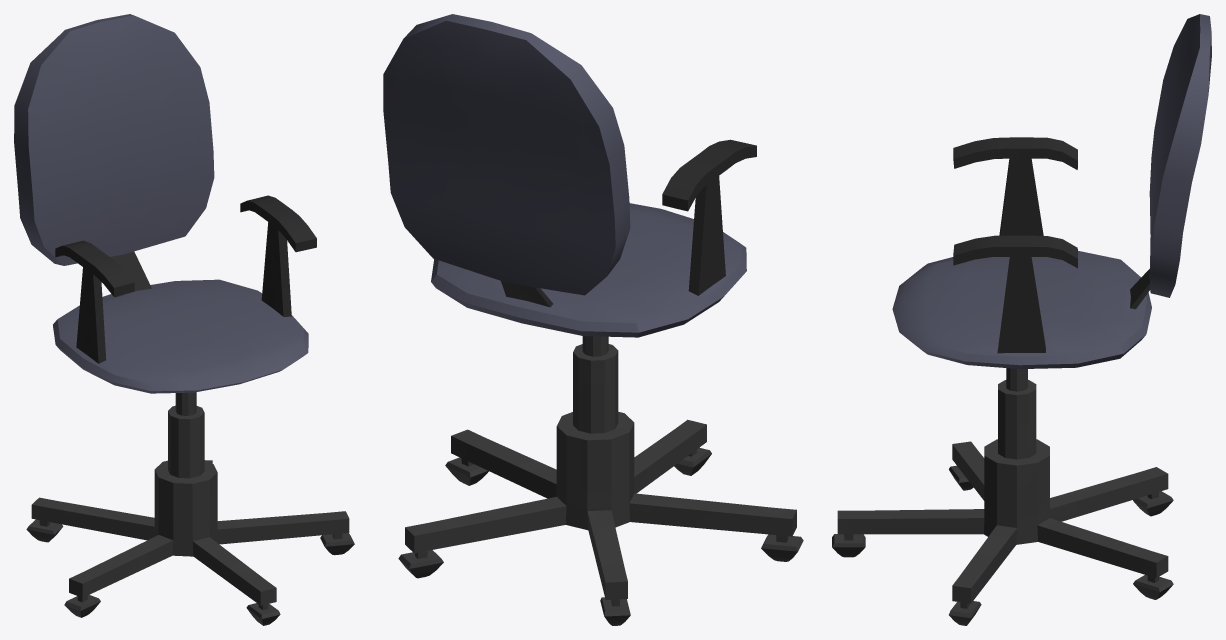
The model's file is Office_Chair_01_03.fbx.
3 views of the same model, side by side, from view 1: azimuth 30°, elevation 25°; view 2: azimuth 150°, elevation 25°; view 3: azimuth 270°, elevation 25° (orthographic). The views are drawn at different scales.
Parts seen in each view (by area): view 1: Office_Chair_01_03; view 2: Office_Chair_01_03; view 3: Office_Chair_01_03.
Boxes of the visible parts, box(x1,y1,x2,y2) form: Office_Chair_01_03: box(14, 14, 354, 625); Office_Chair_01_03: box(383, 14, 803, 625); Office_Chair_01_03: box(832, 14, 1211, 625).
Bounding box in the file's own units: 0.6994 × 1.13 × 0.7394.
